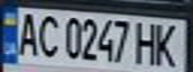0: (60, 14, 81, 61)
2: (78, 15, 100, 62)
4: (96, 16, 115, 63)
7: (112, 17, 136, 64)
A: (12, 9, 42, 57)
C: (33, 11, 63, 60)
H: (133, 18, 163, 66)
K: (151, 20, 184, 69)
